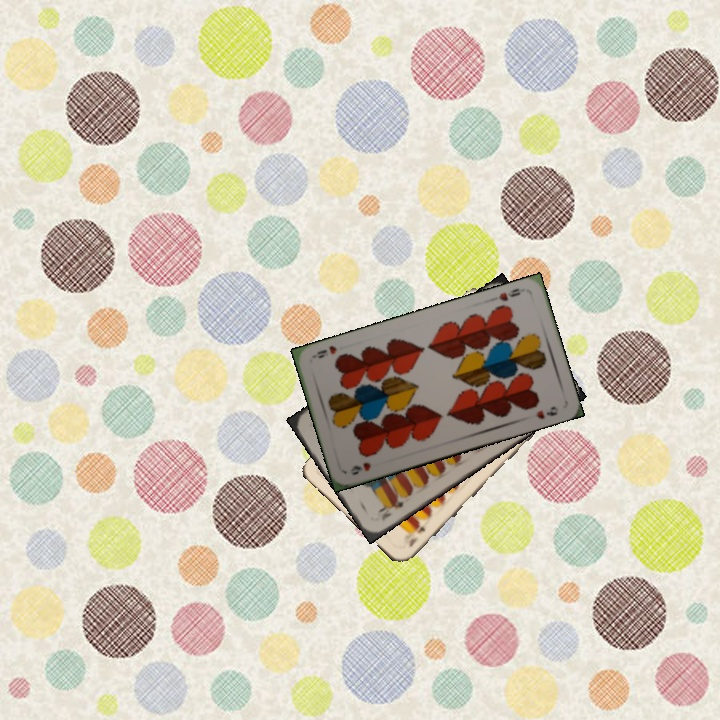E10: (375, 496, 407, 524), (405, 522, 428, 550)
H9: (495, 284, 523, 304), (347, 458, 373, 478)
